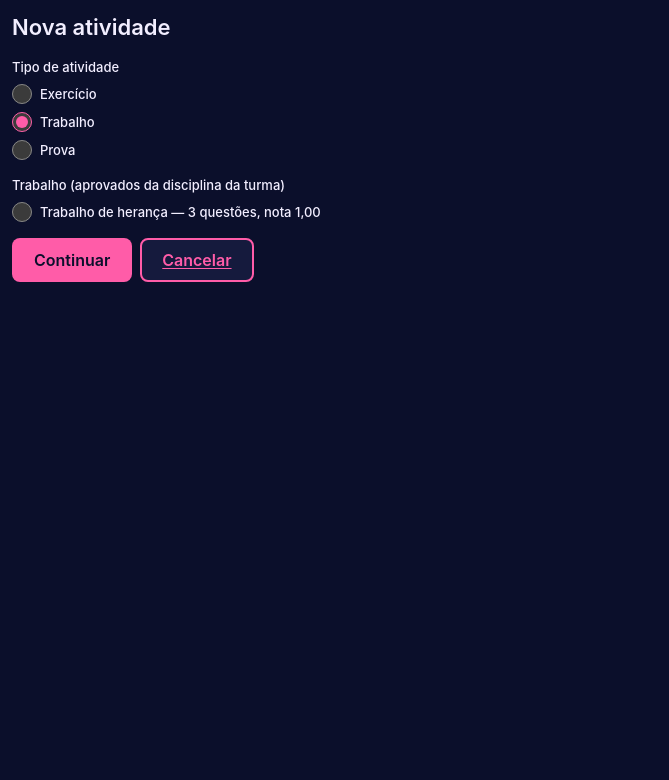
Test: 018/US2 NewActivity — aplicar uma prova do banco à turma › 018/US2-5 018/FR-010 sem opções de modo, ajuda da IA, liberação, prazo ou entrega atrasada
Click the radio button labelled "Prova": [22, 150] box x1=12 y1=140 x2=32 y2=160
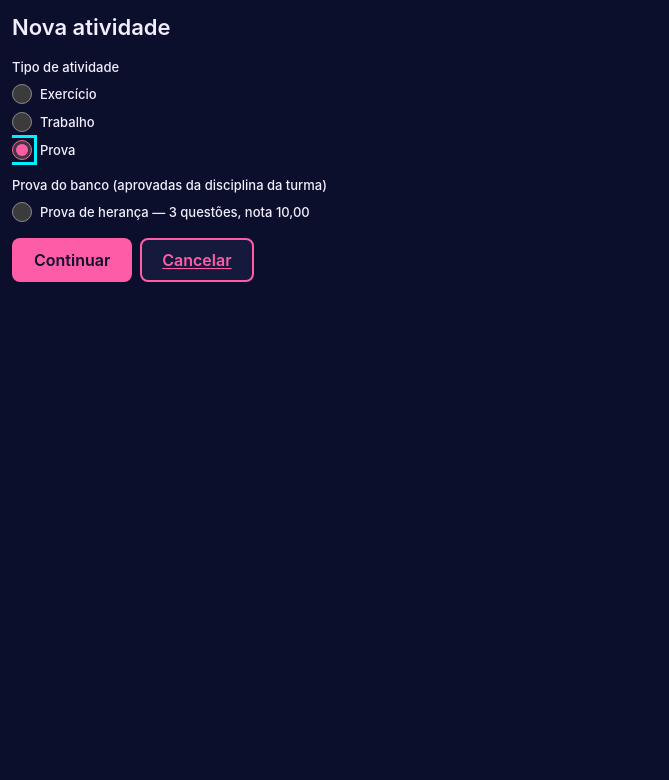
Click the radio button labelled "Prova de herança — 3 questões, nota 10,00": [22, 212] box x1=12 y1=202 x2=32 y2=222
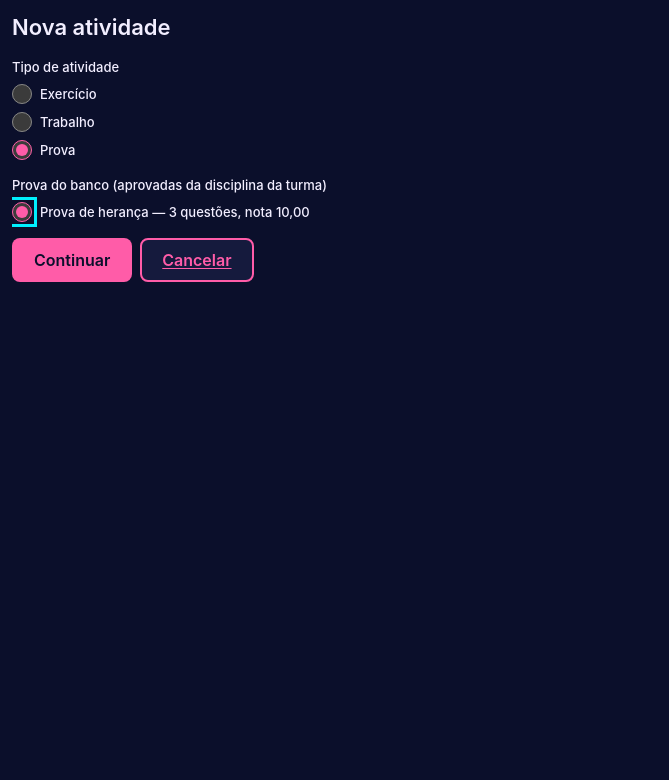
Click the button "Continuar": [72, 260] box x1=12 y1=238 x2=132 y2=282
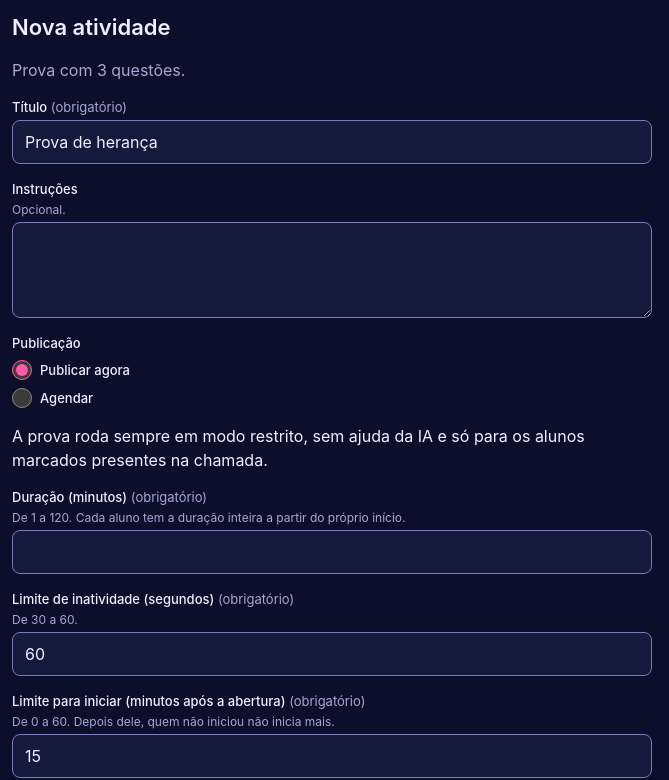
Now the text "sempre em modo restrito, sem ajuda da IA e só para os alunos marcados presentes" is shown, box x1=12 y1=426 x2=585 y2=470
